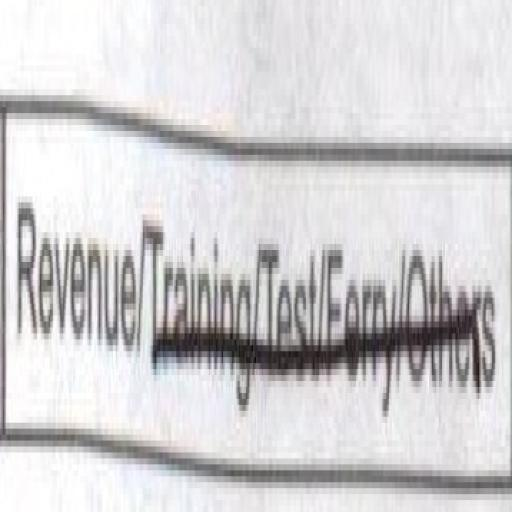check: (2, 37, 140, 512)
